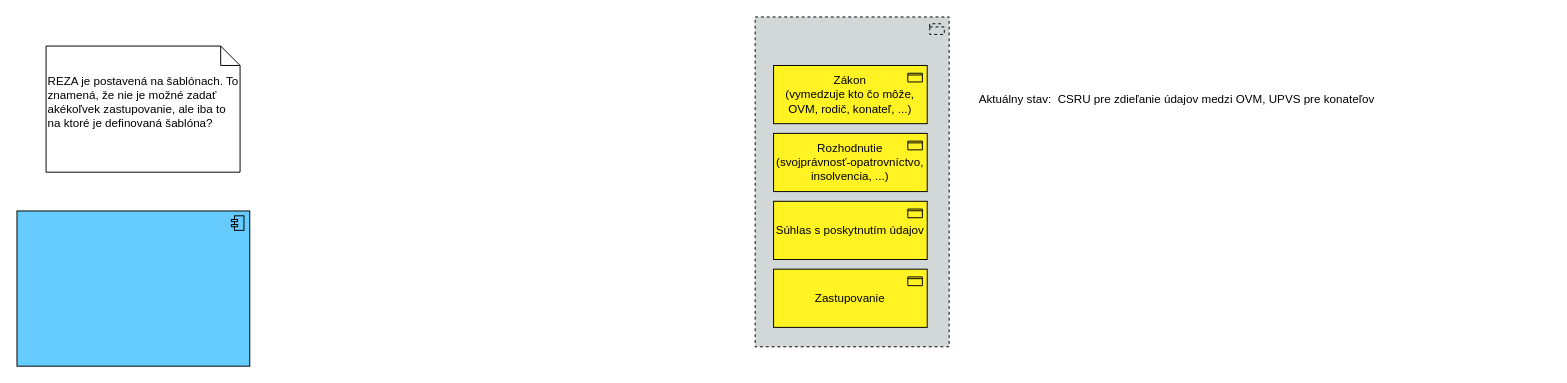
Image size: 1567x383. Some labels were removed from this diagram. Each missing label, with the box of its shape:
REZA Register Zastupování: (16, 210, 250, 366)
Zdroj oprávnenia vykonať činnosť: (754, 16, 949, 347)
